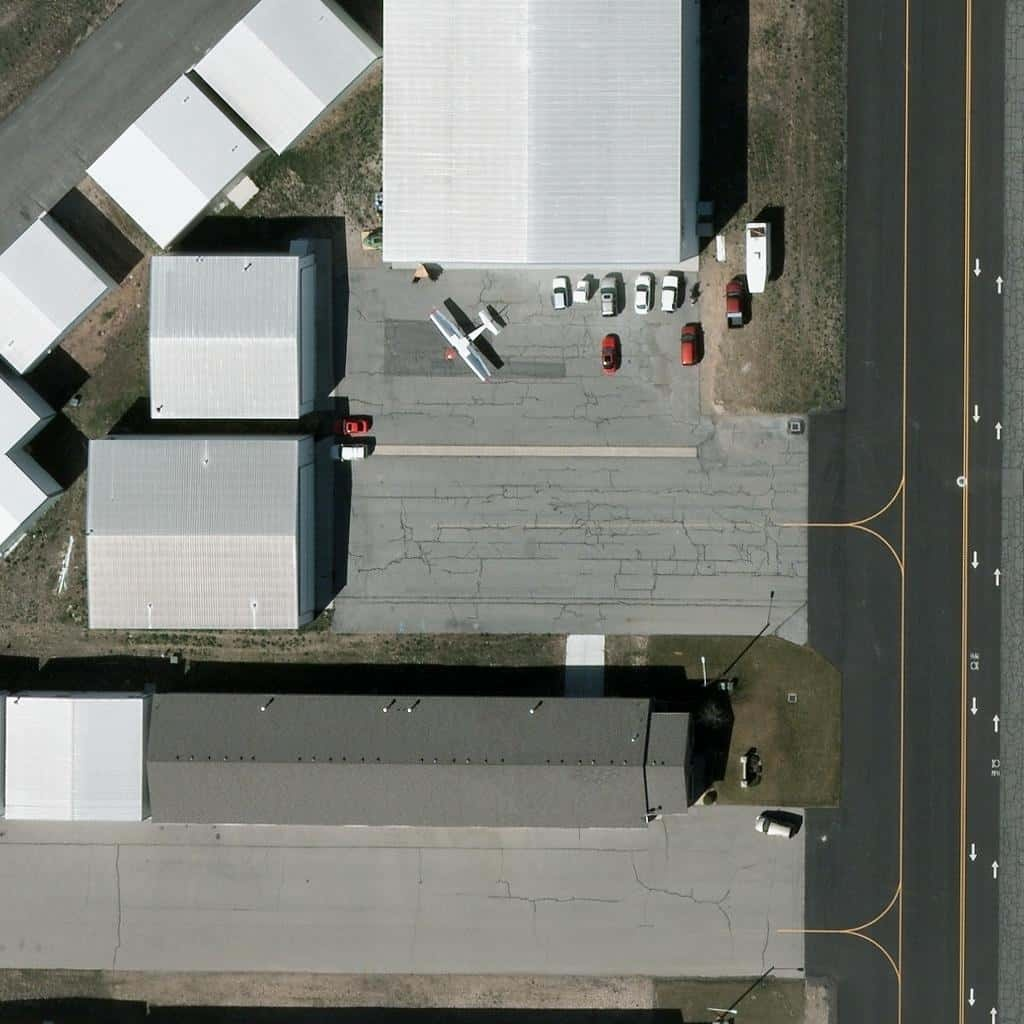plane: (423, 301, 513, 385)
